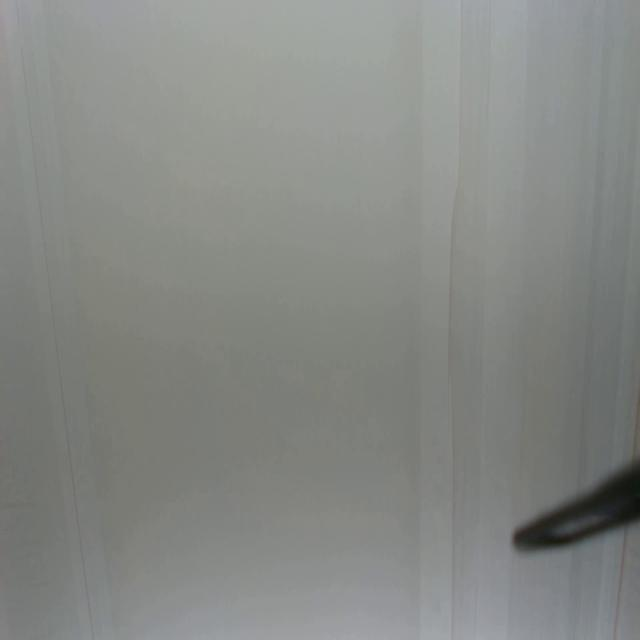crease: (16, 0, 95, 640), (445, 0, 468, 640), (608, 525, 630, 640)
